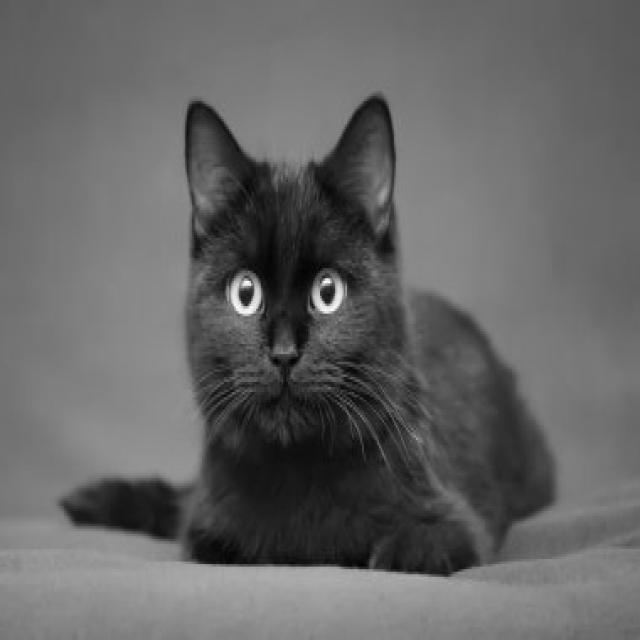Animal: (142, 84, 550, 572)
